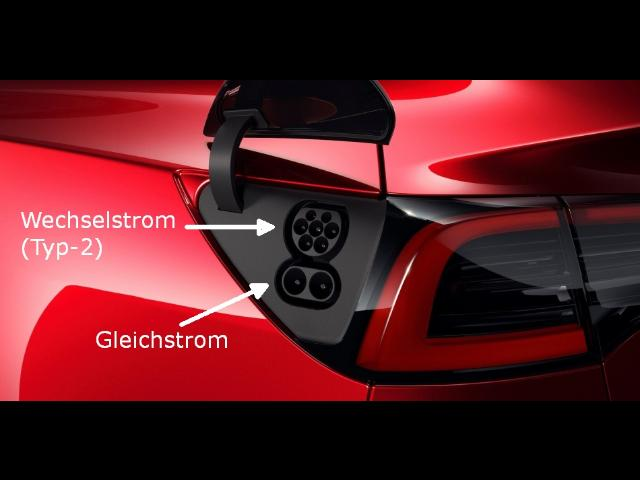inlet: (292, 207, 341, 255)
inlet-above-left: (306, 209, 316, 220)
inlet-above-right: (321, 211, 332, 222)
inlet-below-left: (298, 234, 313, 250)
inlet-below-right: (314, 235, 329, 253)
inlet-circle: (309, 219, 323, 236)
inlet-circle-left: (293, 217, 308, 234)
inlet-circle-right: (324, 221, 339, 238)
inlet-minus: (309, 271, 332, 299)
inlet-plus: (284, 267, 306, 294)
